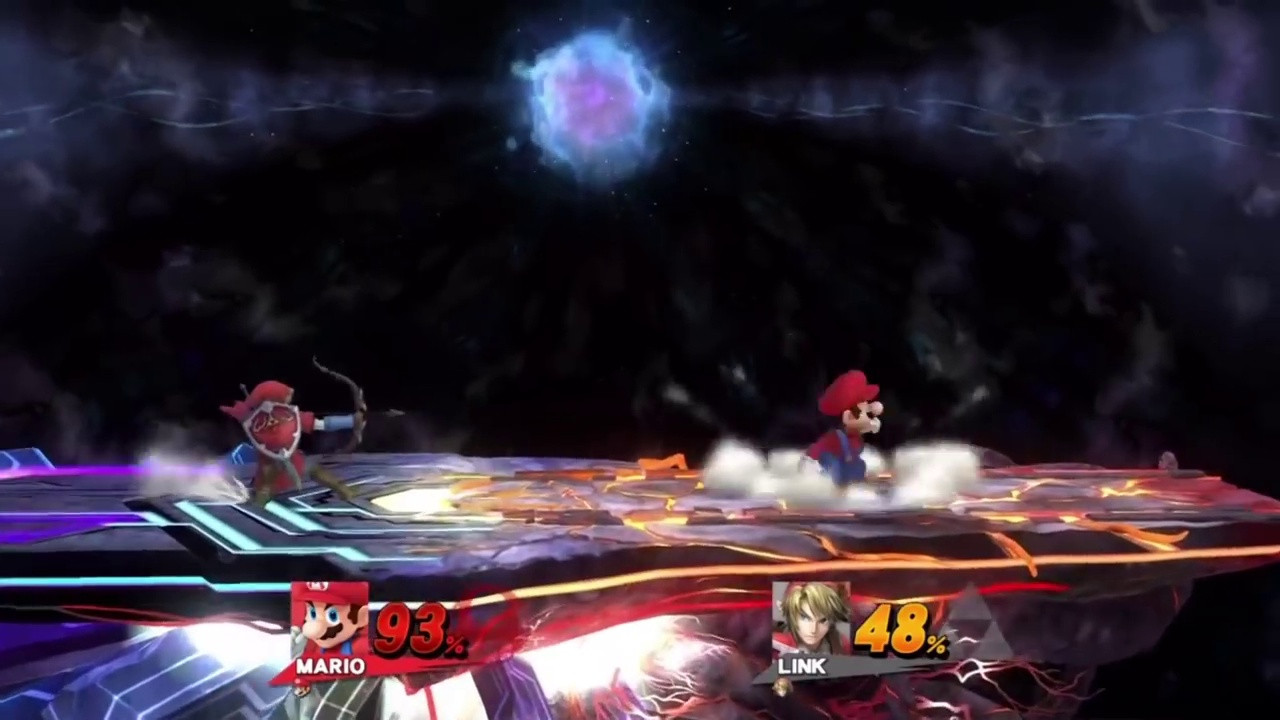Mario: (794, 366, 886, 496)
